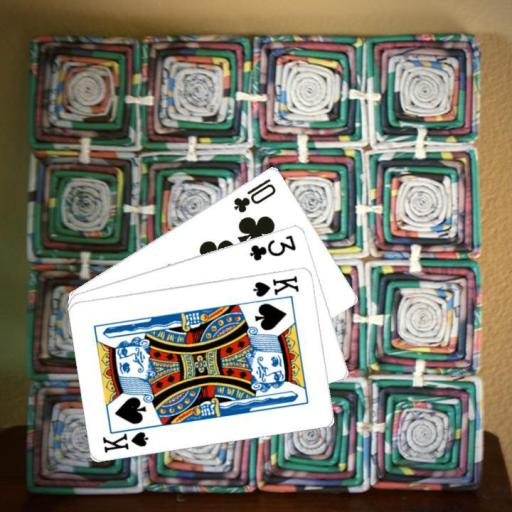10C: (230, 175, 278, 214)
3C: (246, 231, 298, 262)
KS: (99, 422, 153, 454), (250, 272, 301, 298)
